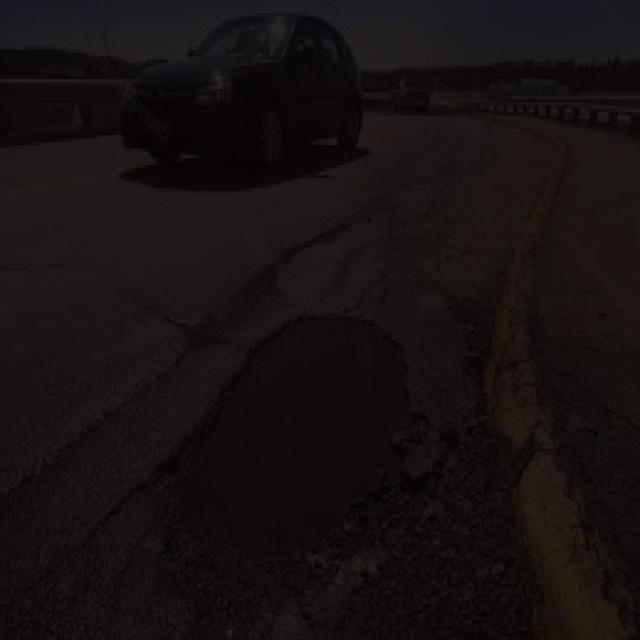Pothole: (154, 295, 432, 604)
